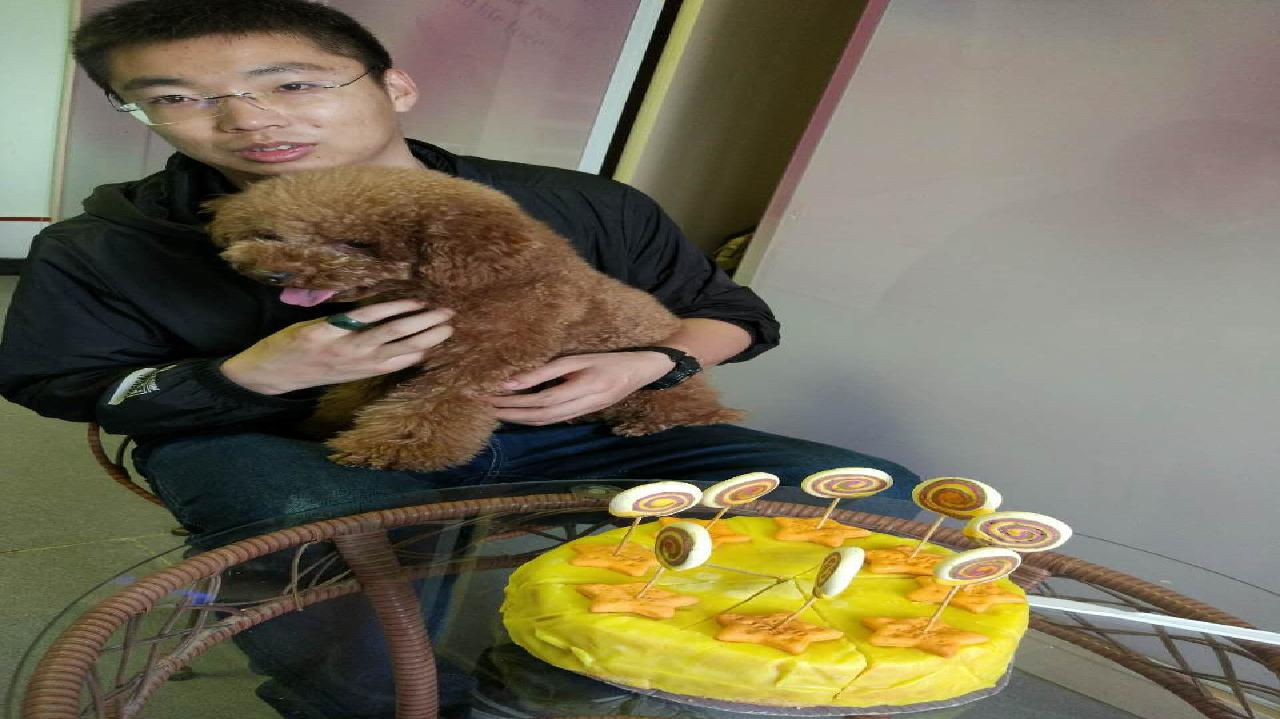zhuangzhuang: (233, 167, 651, 473)
